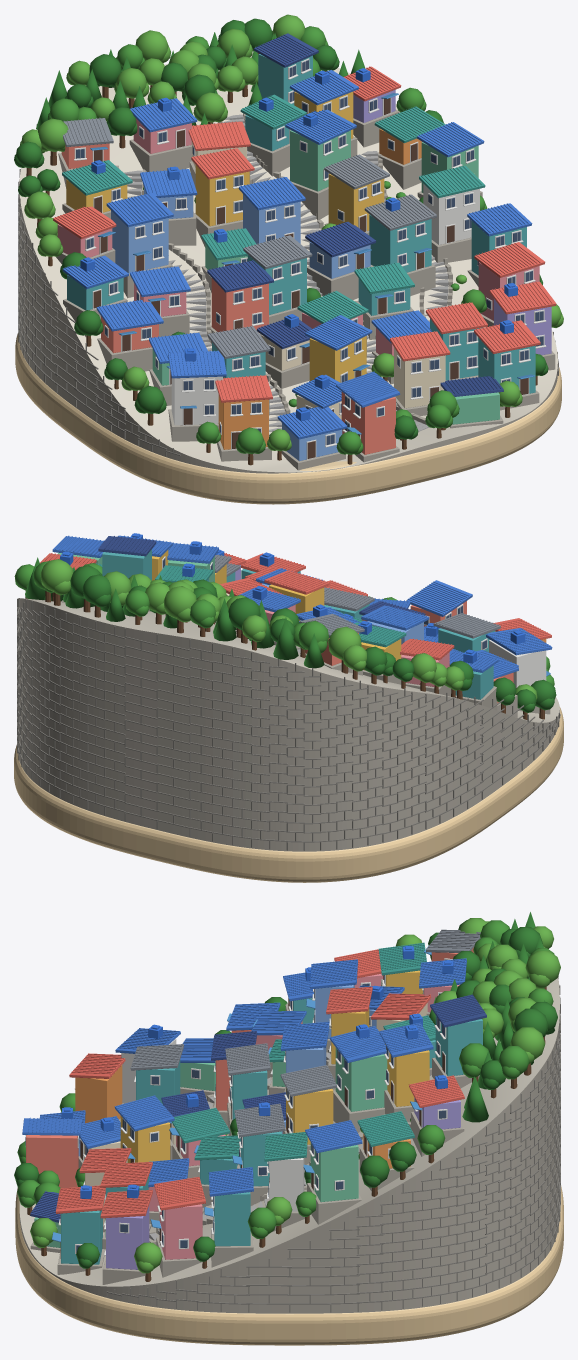
Rendered from gamcheon.glb.
The picture shows the model from 3 angles, top to bottom: view 1: azimuth 30°, elevation 25°; view 2: azimuth 150°, elevation 25°; view 3: azimuth 270°, elevation 25°; orthographic projection. The views are drawn at different scales.
Parts seen in each view (by area): view 1: GK_Houses, GK_Green, GK_Base, GK_Slope, GK_Rim, GK_Path, GK_RimJoints; view 2: GK_Rim, GK_RimJoints, GK_Houses, GK_Green, GK_Base, GK_Slope; view 3: GK_Houses, GK_Rim, GK_Green, GK_Base, GK_RimJoints, GK_Slope, GK_Path.
Part boxes in pixels (<box>): GK_Houses: <box>53,33,556,470</box>; GK_Green: <box>14,14,563,465</box>; GK_Base: <box>15,333,561,504</box>; GK_Slope: <box>19,53,557,472</box>; GK_Rim: <box>19,195,557,473</box>; GK_Path: <box>116,113,452,435</box>; GK_RimJoints: <box>18,124,558,456</box>; GK_Rim: <box>18,598,559,851</box>; GK_RimJoints: <box>17,598,560,850</box>; GK_Houses: <box>40,533,552,717</box>; GK_Green: <box>14,557,556,719</box>; GK_Base: <box>14,707,563,882</box>; GK_Slope: <box>23,598,559,722</box>; GK_Houses: <box>22,929,486,1284</box>; GK_Rim: <box>19,1010,559,1313</box>; GK_Green: <box>14,912,560,1281</box>; GK_Base: <box>15,1185,563,1345</box>; GK_RimJoints: <box>106,976,560,1312</box>; GK_Slope: <box>19,977,559,1286</box>; GK_Path: <box>149,1049,410,1244</box>.
Size of the model in its own units: 6.16 by 3.68 by 6.52.
